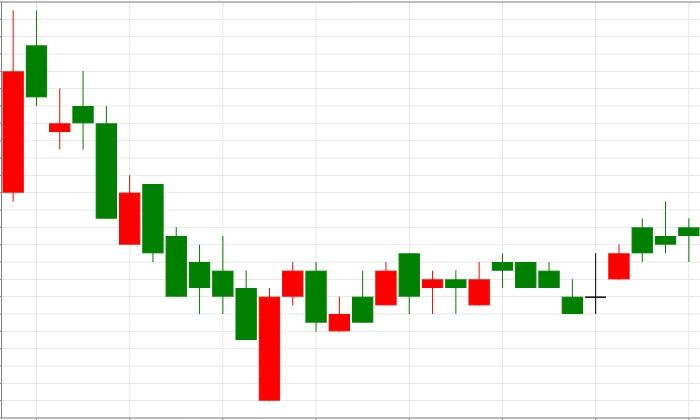bearish_engulfing_fall: (328, 253, 421, 332)
